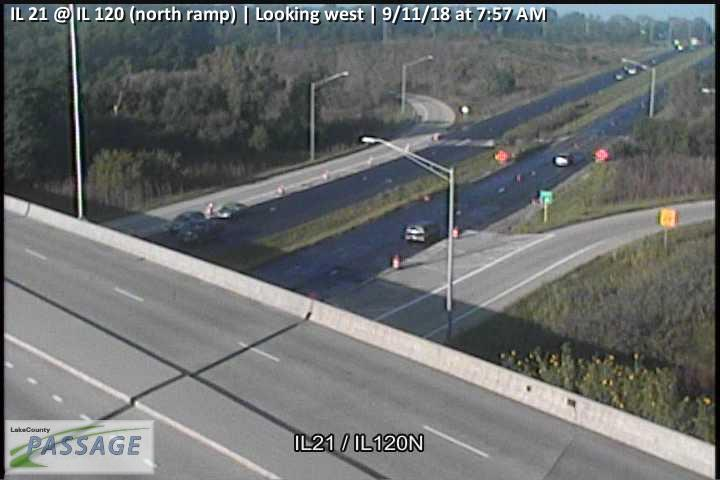SUV: (404, 219, 442, 243)
